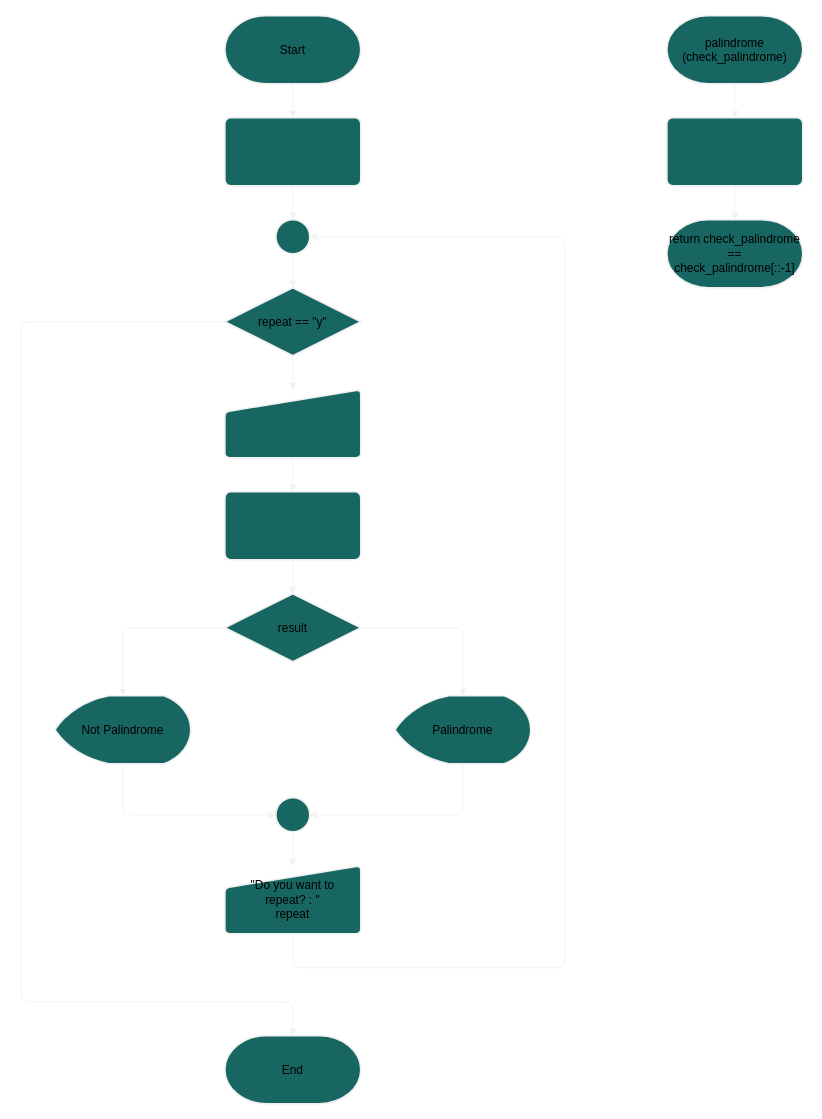
This 822x1119 diagram has some shape labels left out. Here are the shapes that lost their labels. From the top down, the centre of each, then its label:
(x=292, y=151): repeat = "y"
(x=734, y=151): check_palindrome = ''.join(filter(str.isalnum, check_palindrome.lower()))
(x=292, y=423): "Input your word to check palindrome : " word
(x=292, y=525): result = palindrome(word)
